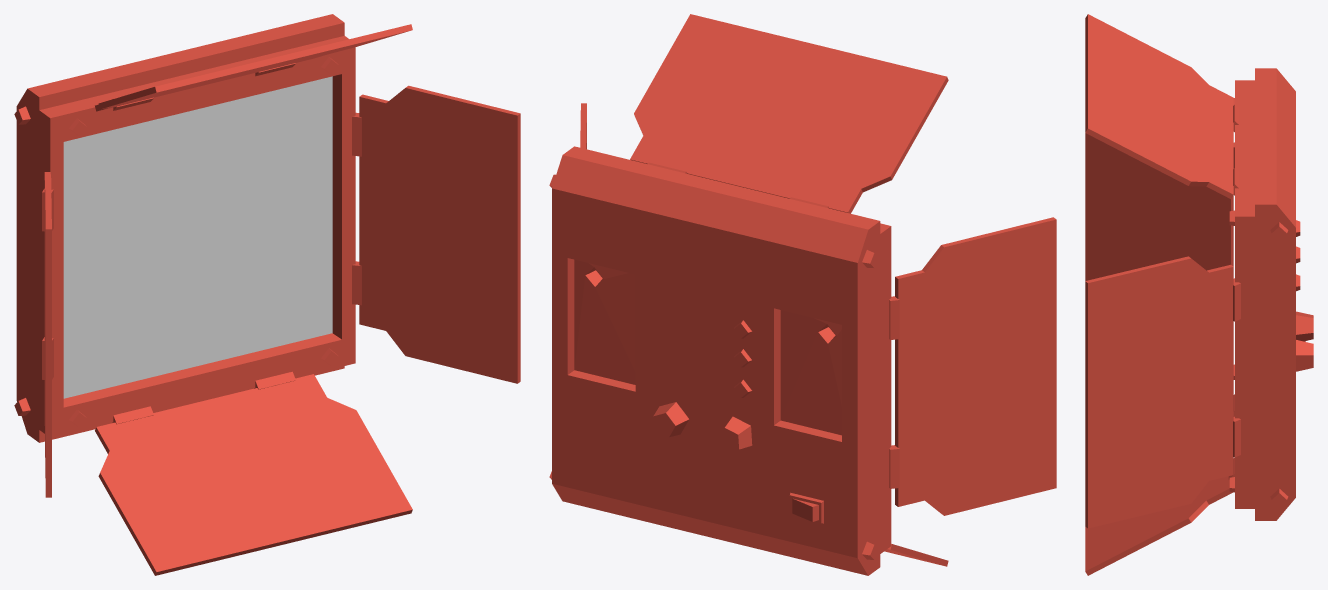
The model's file is SM_Light_Square_Big_Light.fbx.
3 renders of one model, left to right at view 1: azimuth 30°, elevation 25°; view 2: azimuth 150°, elevation 25°; view 3: azimuth 270°, elevation 25°, orthographic. The views are drawn at different scales.
Parts seen in each view (by area): view 1: SM_Light_Square_Big_Light; view 2: SM_Light_Square_Big_Light; view 3: SM_Light_Square_Big_Light.
Boxes of the visible parts, x1=… form: SM_Light_Square_Big_Light: x1=14, y1=14, x2=520, y2=575; SM_Light_Square_Big_Light: x1=549, y1=14, x2=1056, y2=575; SM_Light_Square_Big_Light: x1=1085, y1=14, x2=1313, y2=575.
Bounding box in the file's own units: 24.49 × 53.73 × 52.91.
